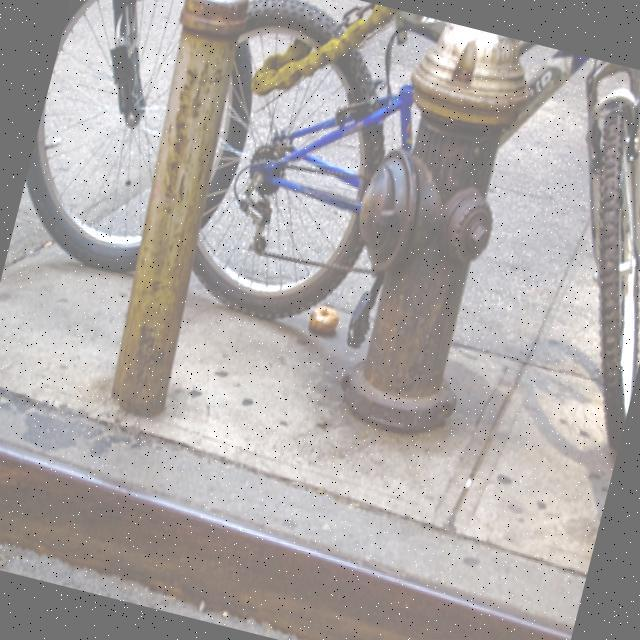fire_hydrant: (306, 18, 548, 448)
